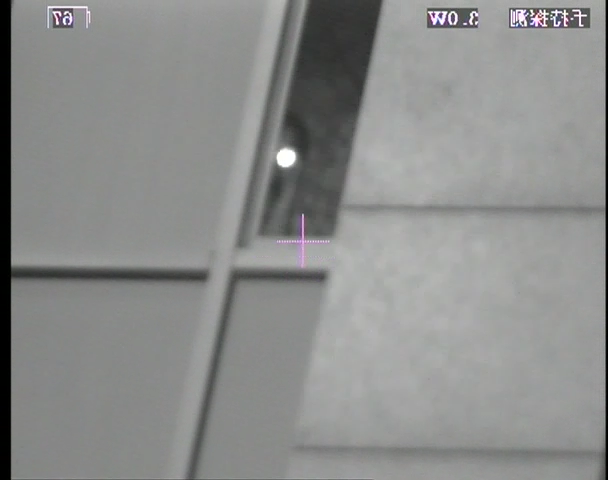my: (275, 146, 297, 167)
